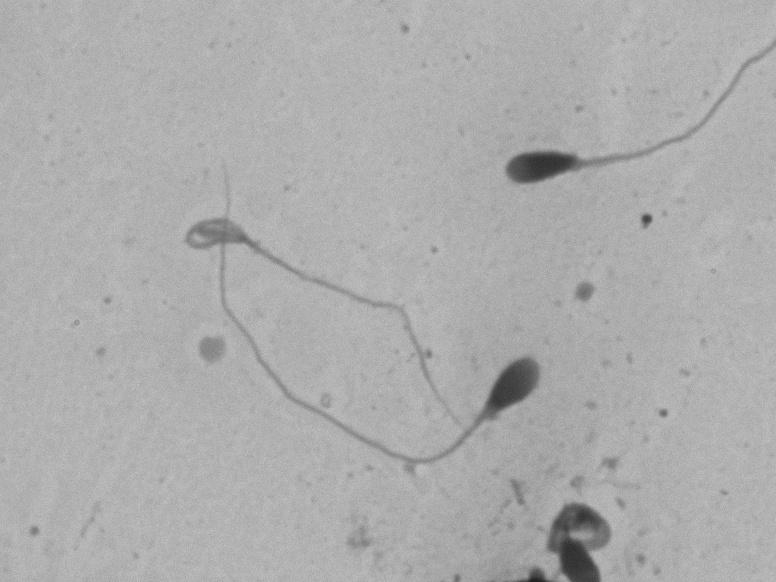Abnormal: (208, 318, 564, 502), (487, 21, 757, 209)
